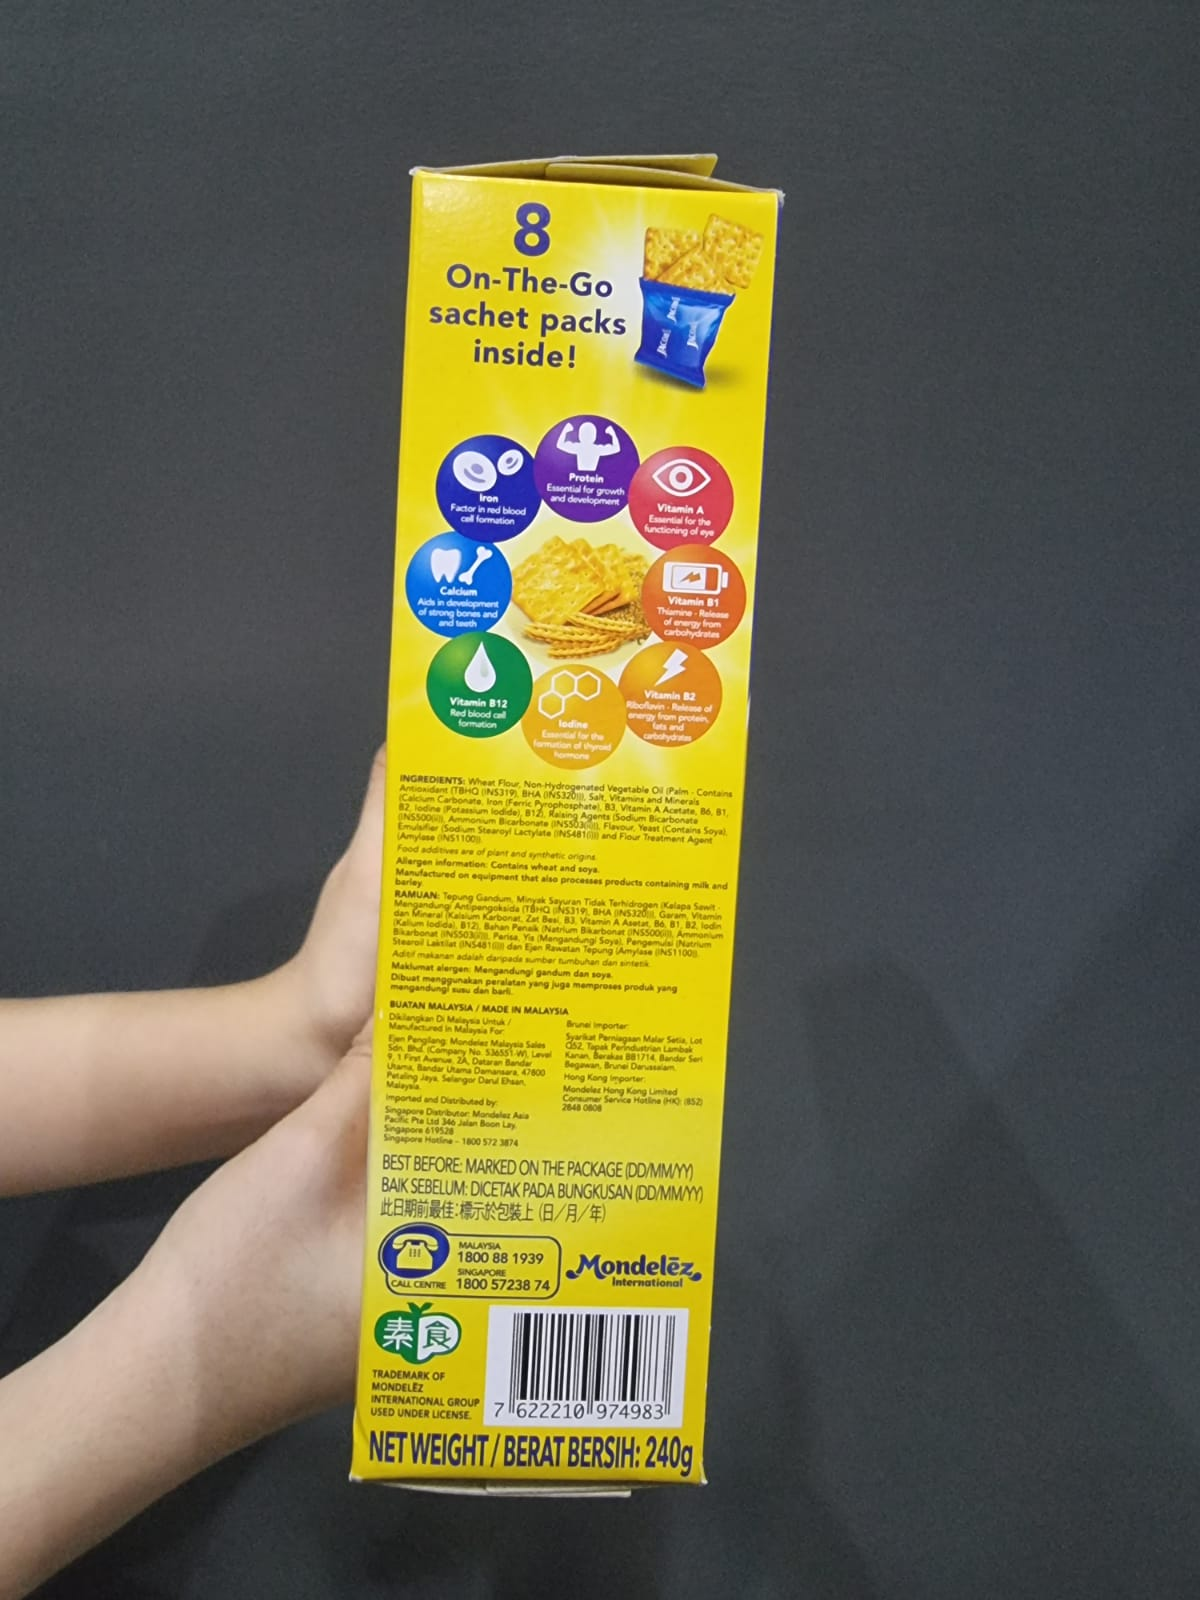Biscuits: (381, 181, 766, 1482)
